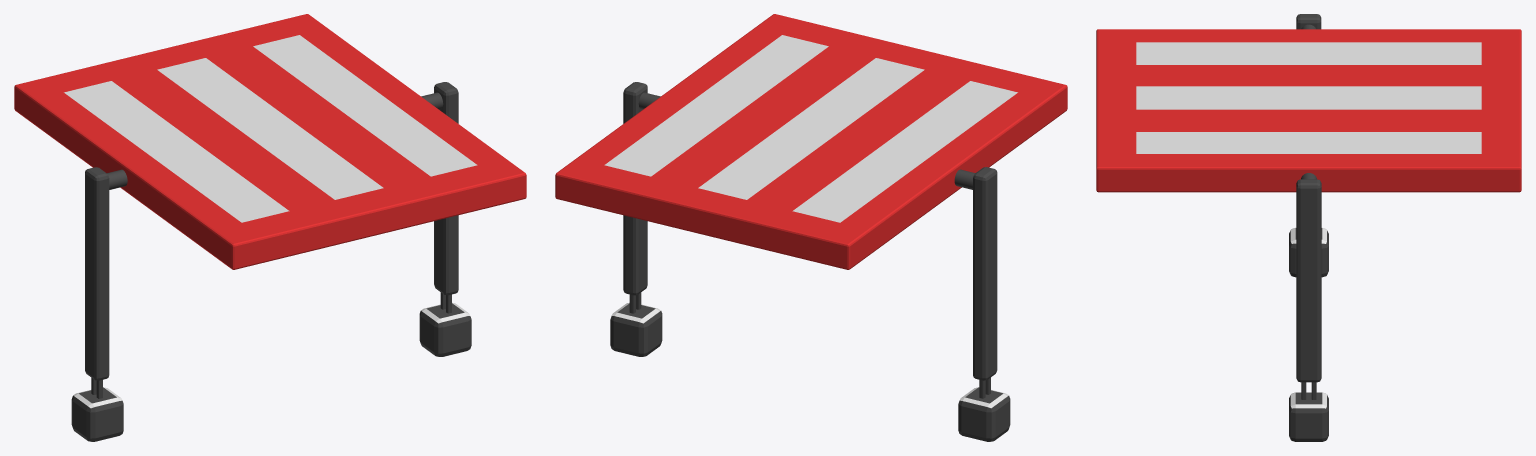
3 views of the same model, side by side, from view 1: azimuth 30°, elevation 25°; view 2: azimuth 150°, elevation 25°; view 3: azimuth 270°, elevation 25° (orthographic). The views are drawn at different scales.
Visible parts, largest first — view 1: pCube21, pCube27, pCube26; view 2: pCube21, pCube27, pCube26; view 3: pCube21, pCube26, pCube27.
Boxes of the visible parts, x1,y1,x2,y2 form: pCube21: [14, 14, 526, 269]; pCube27: [71, 167, 127, 441]; pCube26: [419, 82, 471, 356]; pCube21: [555, 14, 1067, 269]; pCube27: [954, 167, 1010, 441]; pCube26: [610, 82, 662, 356]; pCube21: [1096, 29, 1521, 192]; pCube26: [1289, 173, 1328, 441]; pCube27: [1289, 14, 1328, 277].
Bounding box in the file's own units: 6.48 × 4.23 × 6.4.
